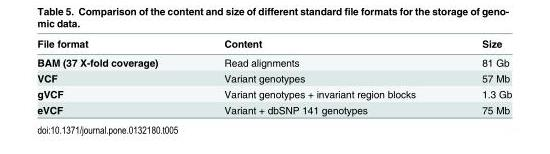table: (36, 37, 511, 115)
table column: (190, 37, 448, 115), (36, 37, 190, 115), (448, 37, 511, 115)
table column header: (36, 37, 511, 52)
table row: (36, 52, 511, 69), (36, 69, 511, 85), (36, 85, 511, 101), (36, 37, 511, 52), (36, 101, 511, 115)
